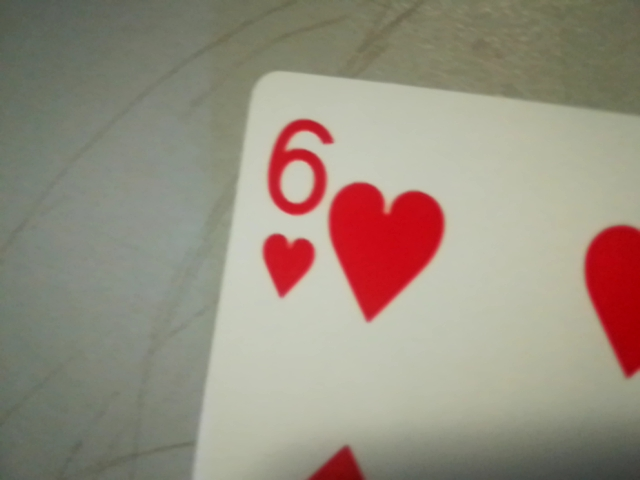hx 6: (251, 107, 334, 317)
